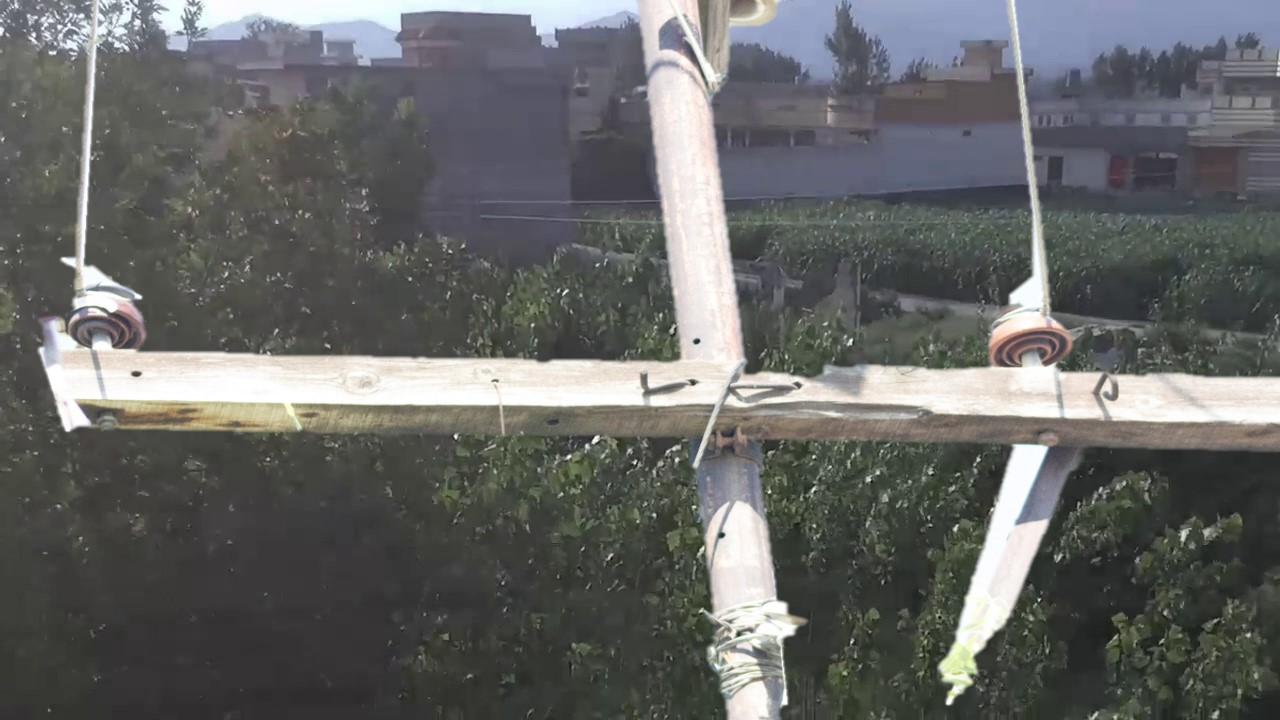defect_pin: (57, 275, 150, 357)
insulator_pin: (981, 298, 1075, 365)
